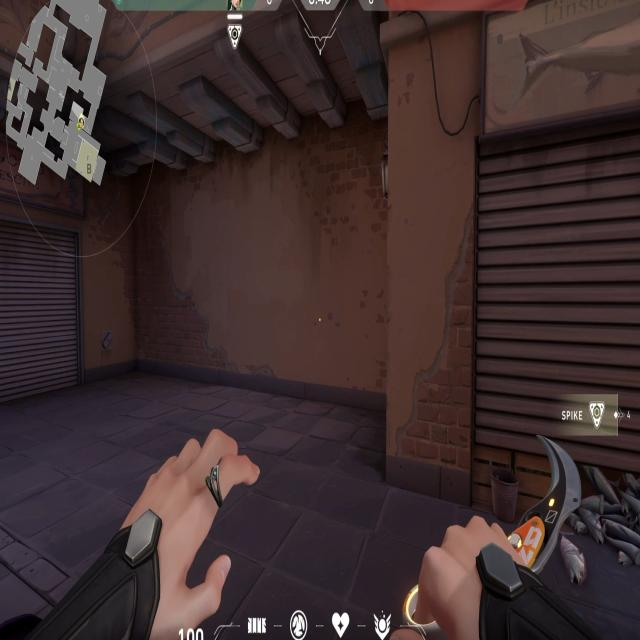B_Main_Corner: (356, 9, 640, 536)
